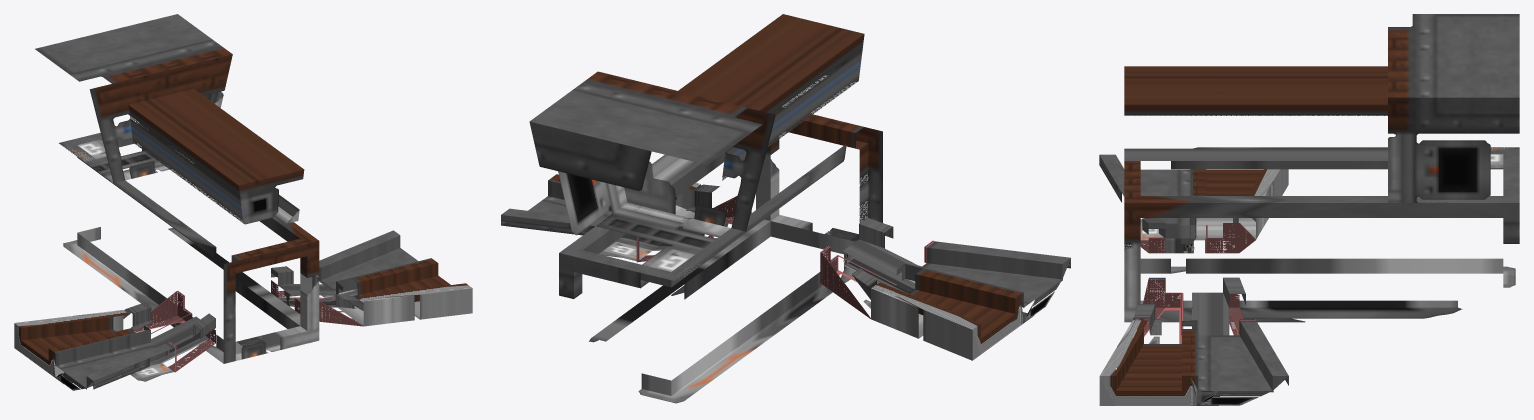
File: placeholder.obj
3 views of the same model, side by side, from view 1: azimuth 30°, elevation 25°; view 2: azimuth 150°, elevation 25°; view 3: azimuth 270°, elevation 25° (orthographic). The views are drawn at different scales.
Visible parts, largest first — view 1: Cube_Cube.001; view 2: Cube_Cube.001; view 3: Cube_Cube.001.
Boxes of the visible parts, x1,y1,x2,y2 form: Cube_Cube.001: [14, 14, 472, 390]; Cube_Cube.001: [501, 14, 1070, 403]; Cube_Cube.001: [1099, 14, 1519, 405].
Bounding box in the file's own units: 7.95 × 4 × 6.38.
